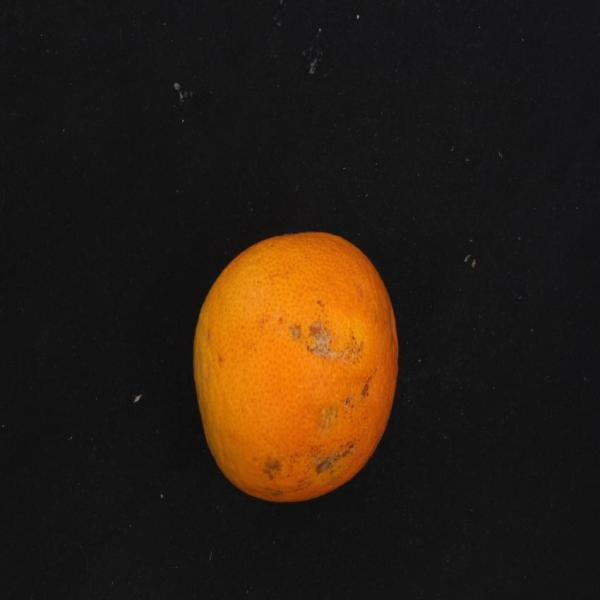Otros defectos: (184, 203, 407, 506)
